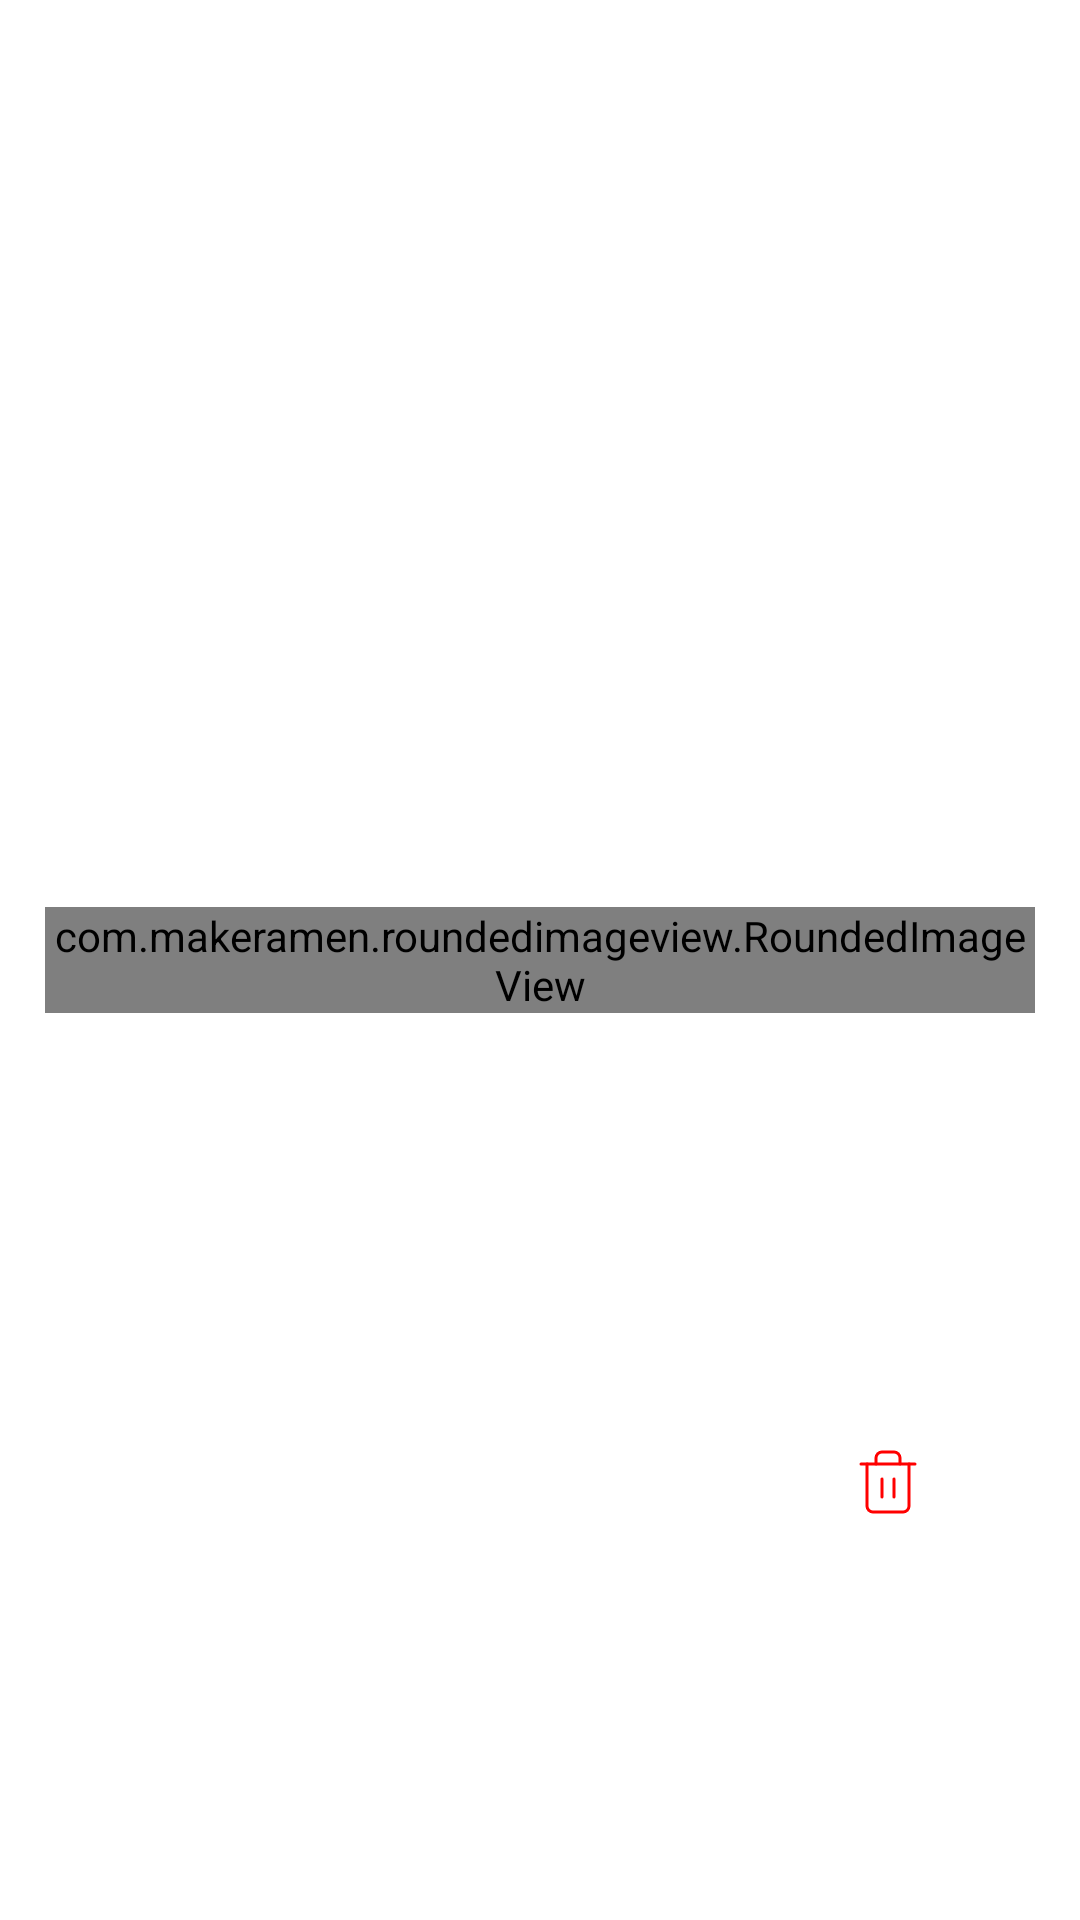

Named icons in this screenshot (1080 × 1920) and their bounding boxes, (x1, y1, x2, y2):
trash: (859, 1450, 917, 1514)
